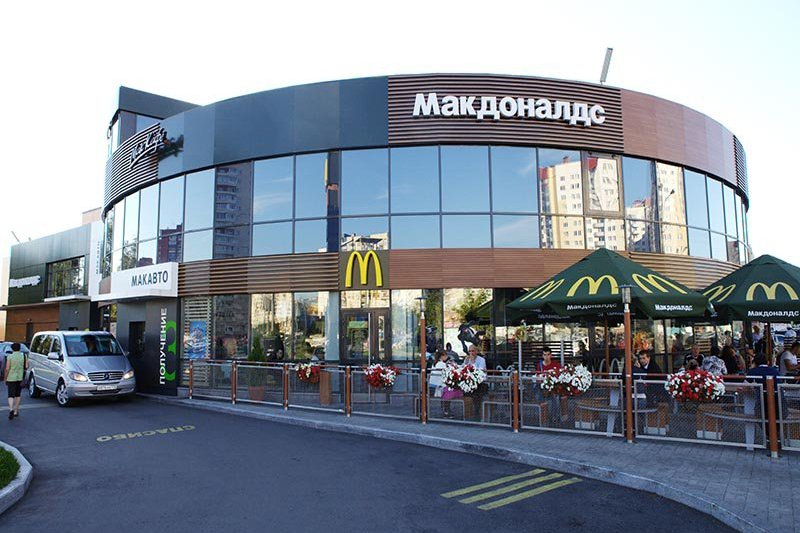mcdonalds: (339, 245, 393, 294), (563, 272, 625, 304), (742, 279, 800, 304)
